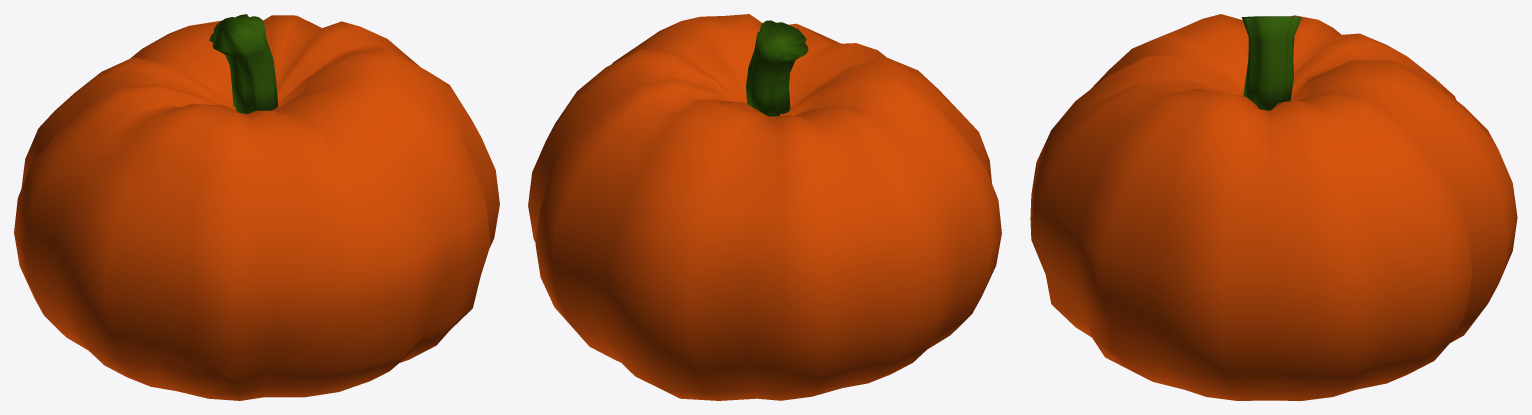
File: Pumpkin.fbx
3 renders of one model, left to right at view 1: azimuth 30°, elevation 25°; view 2: azimuth 150°, elevation 25°; view 3: azimuth 270°, elevation 25°, orthographic. The views are drawn at different scales.
Visible parts, largest first — view 1: Pumpkin; view 2: Pumpkin; view 3: Pumpkin.
Boxes of the visible parts, box(x1,y1,x2,y2) form: Pumpkin: box(14, 14, 499, 400); Pumpkin: box(528, 14, 1001, 400); Pumpkin: box(1030, 14, 1517, 400).
Size of the model in its own units: 146 by 112 by 146.
